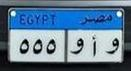5: (46, 36, 58, 57), (18, 36, 30, 56), (31, 38, 44, 56)
alif: (90, 34, 98, 58)
waw: (104, 34, 119, 58), (69, 36, 84, 57)
